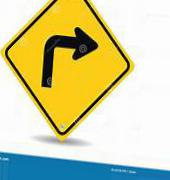right: (1, 1, 132, 142)
